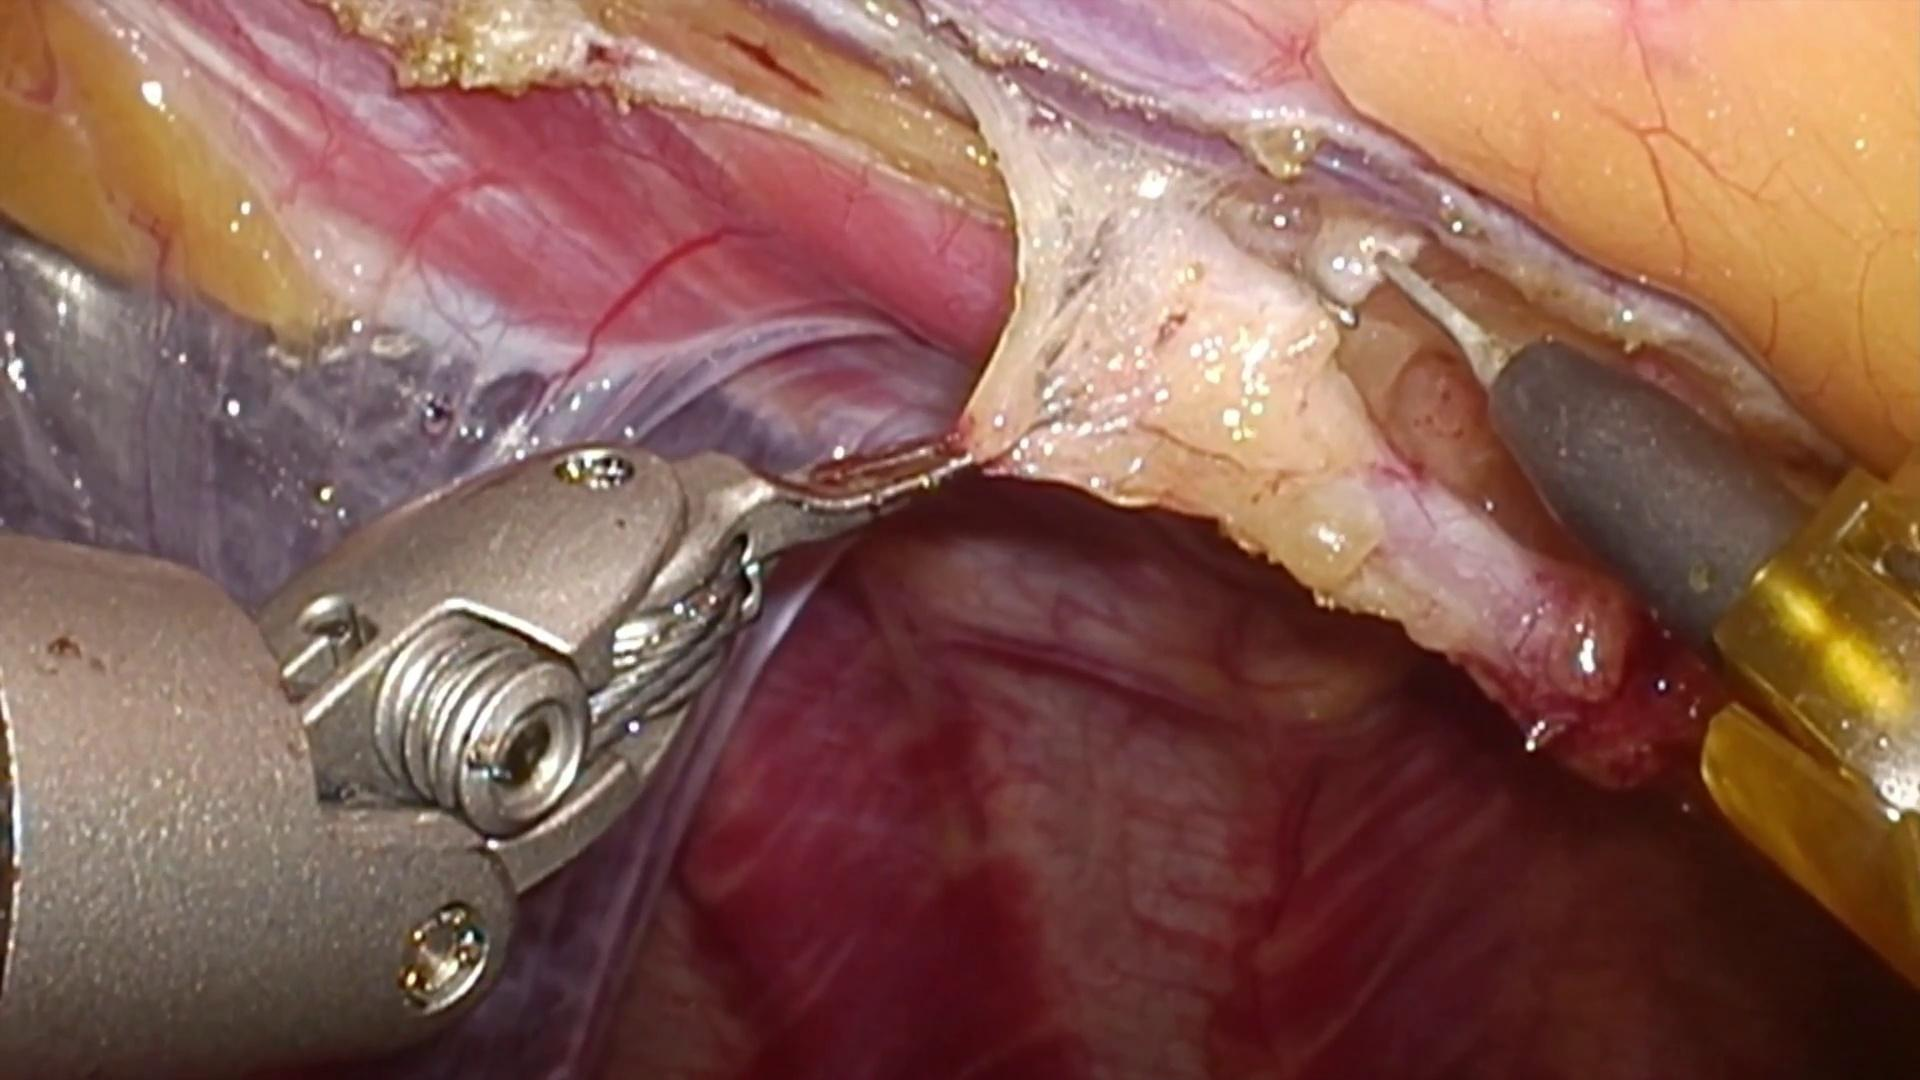Cautery_Spatula: (1370, 247, 1822, 647)
Debakey: (680, 355, 996, 578)
